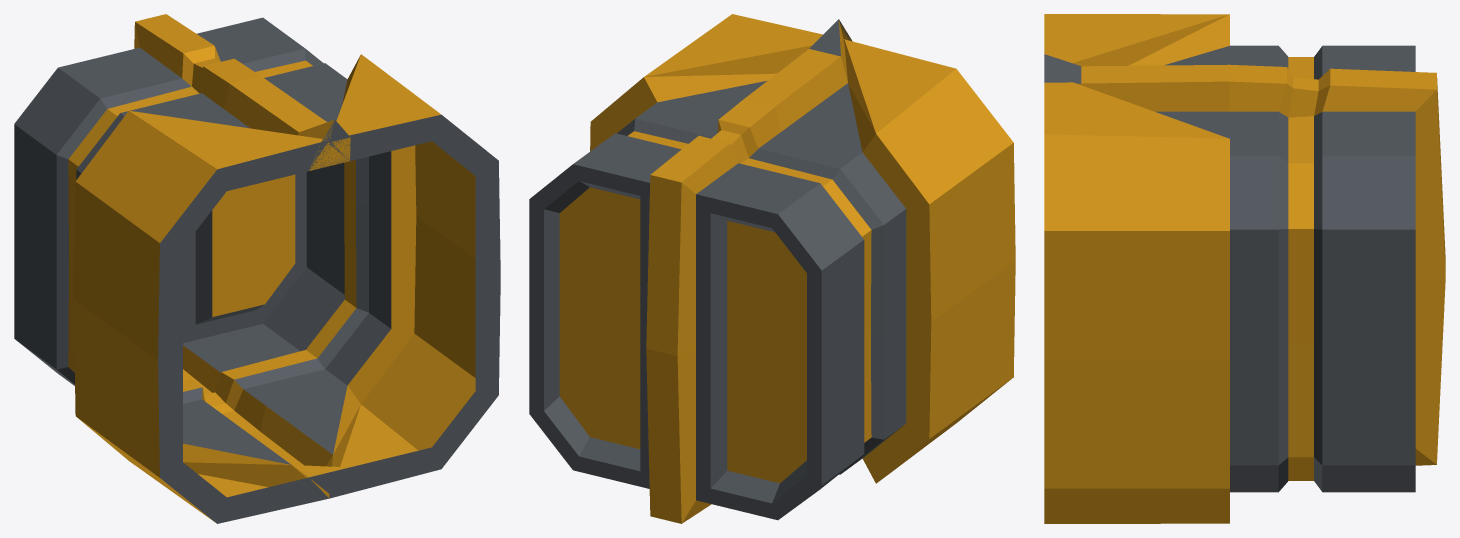
Rendered from Mothership_02_Junction_Yellow.fbx.
The picture shows the model from 3 angles, left to right: view 1: azimuth 30°, elevation 25°; view 2: azimuth 150°, elevation 25°; view 3: azimuth 270°, elevation 25°; orthographic projection. The views are drawn at different scales.
Visible parts, largest first — view 1: Mothership_02_Junction_Yellow; view 2: Mothership_02_Junction_Yellow; view 3: Mothership_02_Junction_Yellow.
Boxes of the visible parts, x1=… form: Mothership_02_Junction_Yellow: x1=14, y1=14, x2=500, y2=523; Mothership_02_Junction_Yellow: x1=529, y1=14, x2=1015, y2=523; Mothership_02_Junction_Yellow: x1=1044, y1=14, x2=1445, y2=523.
Size of the model in its own units: 508 by 546 by 469.
Materials: 1 (1 with a texture image).
